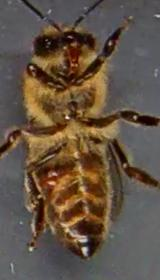varroa_mite: (41, 166, 62, 198)
